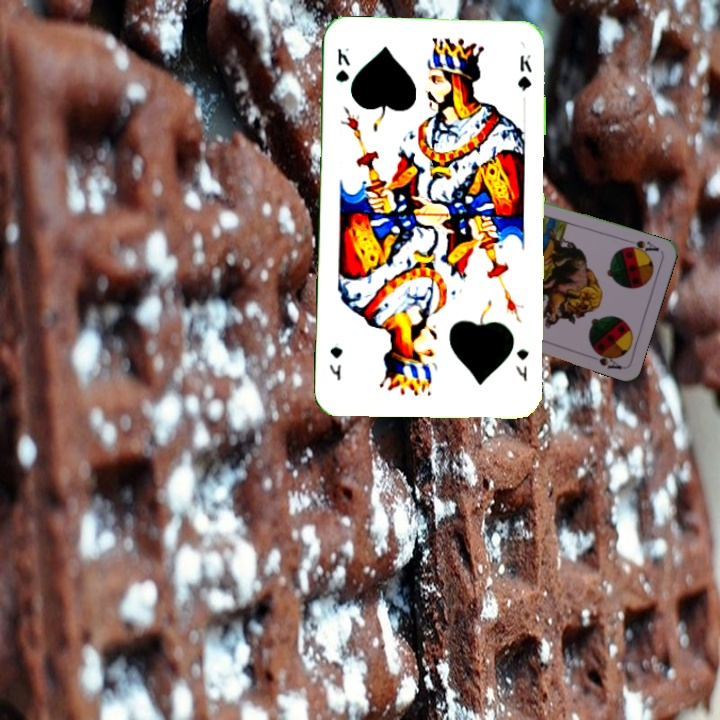GK: (332, 44, 353, 85), (512, 345, 531, 384)
SA: (621, 236, 661, 257)
